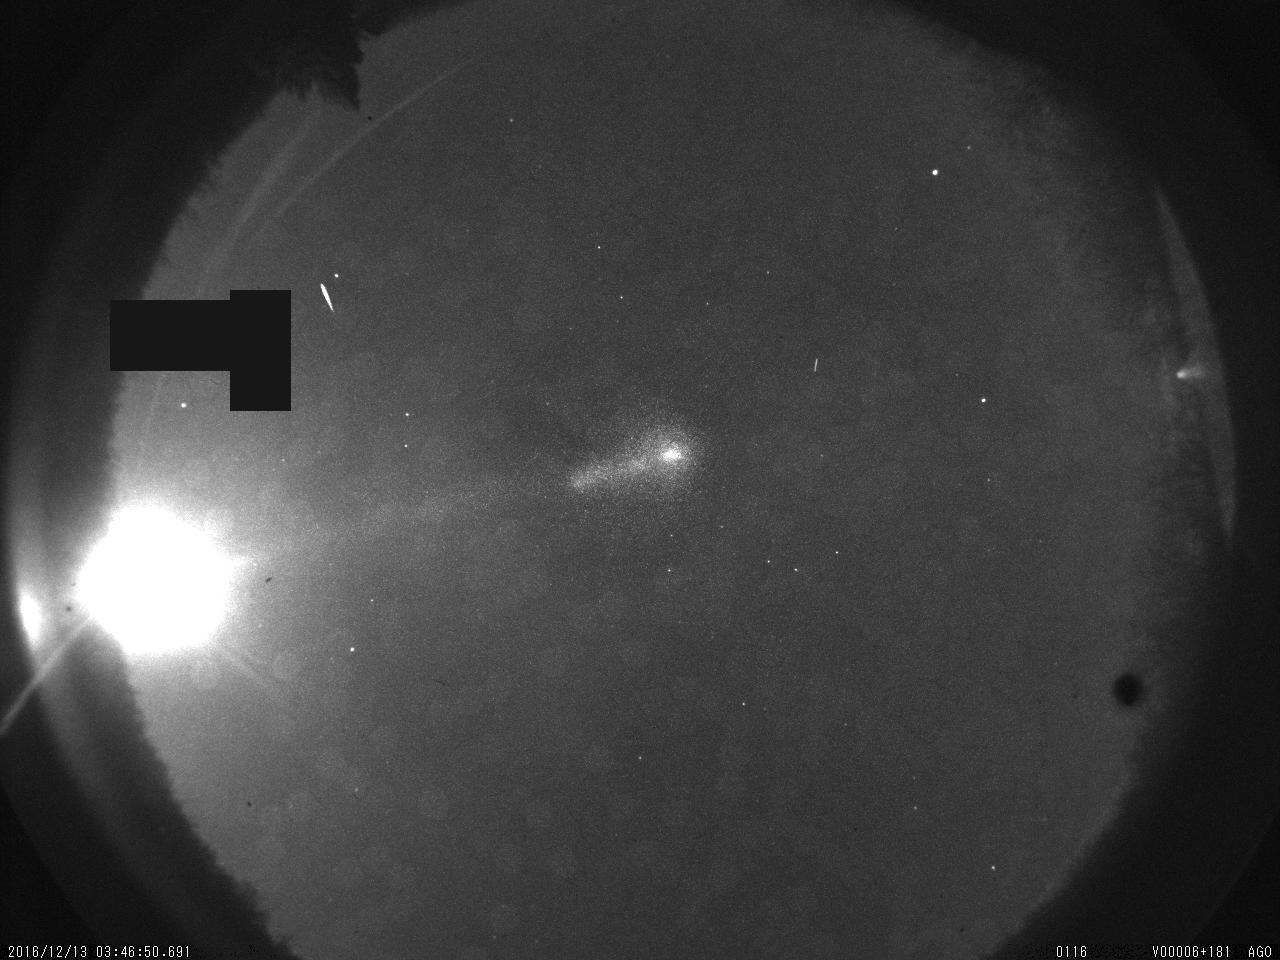meteor: (314, 272, 342, 316)
